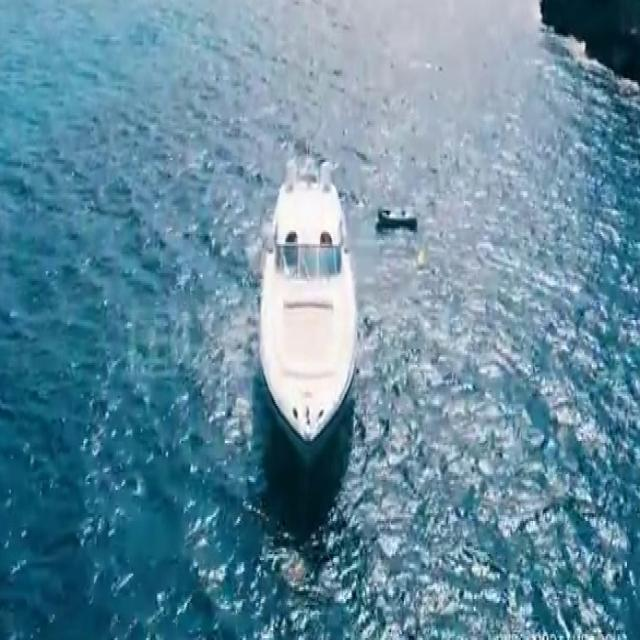houseboat: (254, 154, 365, 446)
